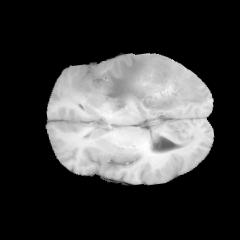glioma: (104, 55, 209, 113)
